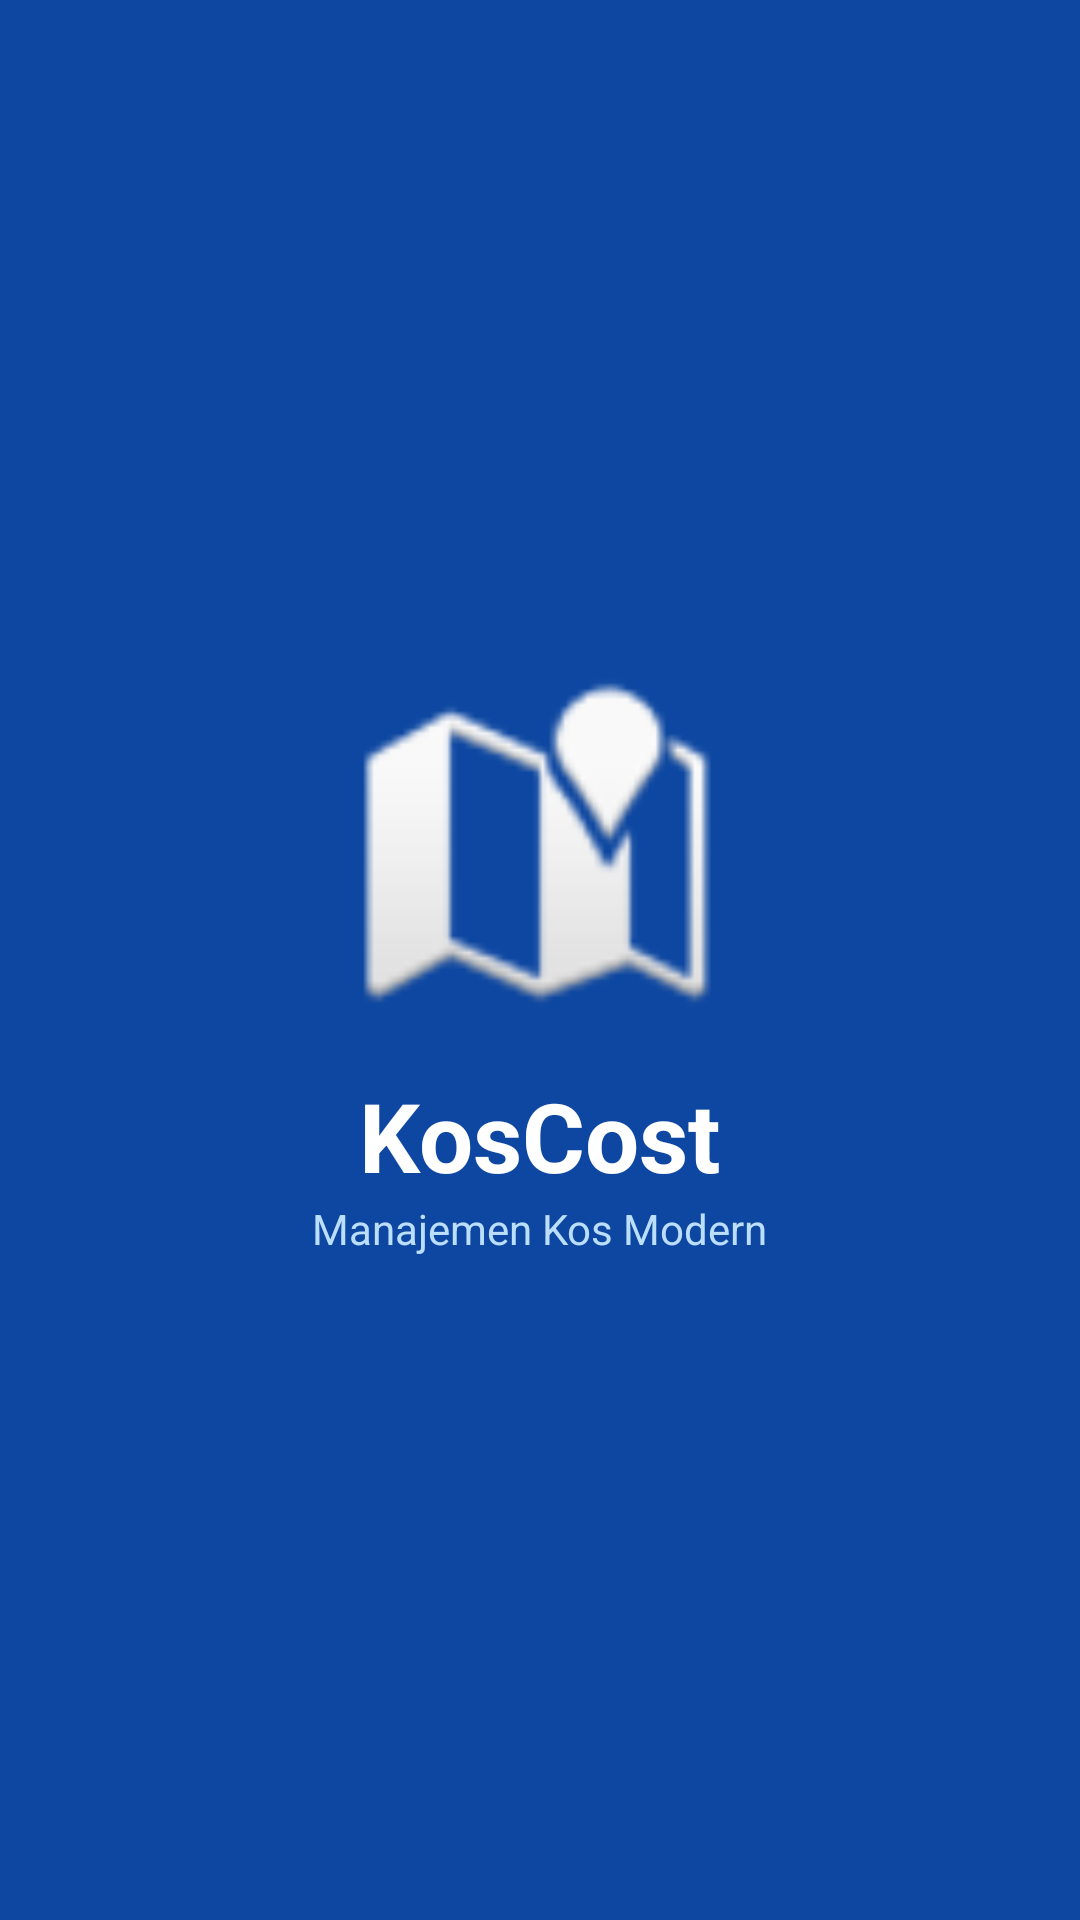

Screen size 1080px x 1920px. Icon name, then its box in pixels as (x1, y1, x2, y2):
map: (364, 684, 710, 1001)
